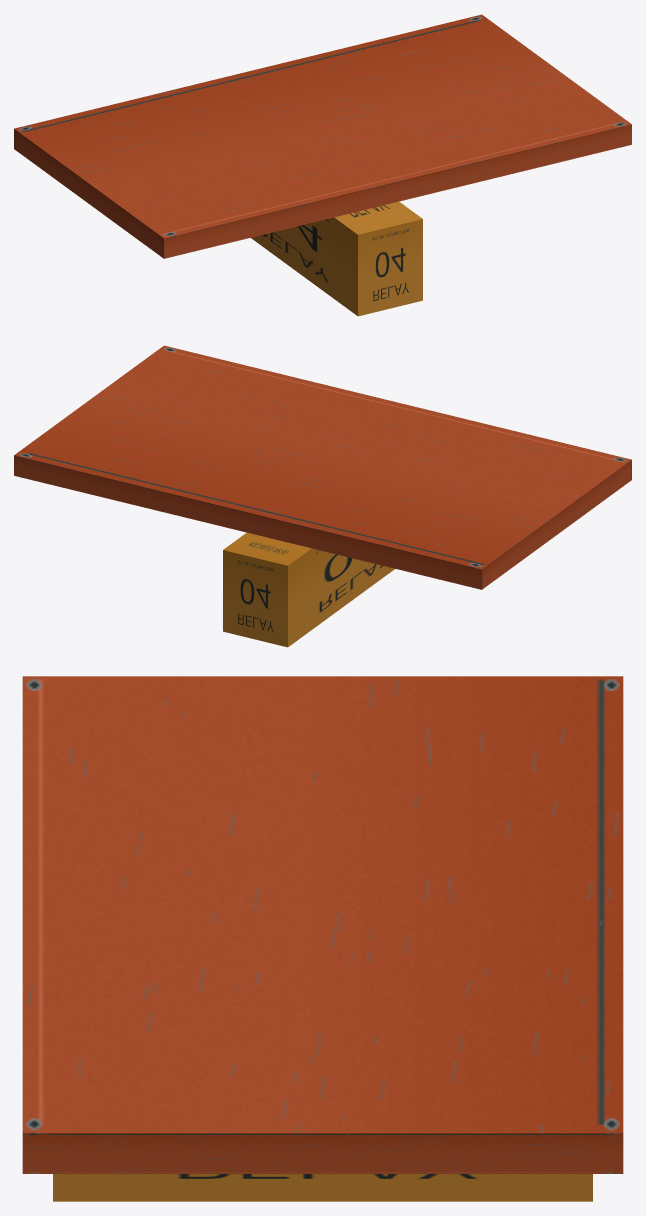
Rendered from solar_array_LOD2.obj.
3 views of the same model, one above another, from view 1: azimuth 30°, elevation 25°; view 2: azimuth 150°, elevation 25°; view 3: azimuth 270°, elevation 25° (orthographic). The views are drawn at different scales.
Parts seen in each view (by area): view 1: L02_solar_array_LOD2; view 2: L02_solar_array_LOD2; view 3: L02_solar_array_LOD2.
Boxes of the visible parts, x1,y1,x2,y2 form: L02_solar_array_LOD2: [14, 14, 631, 316]; L02_solar_array_LOD2: [14, 345, 631, 647]; L02_solar_array_LOD2: [22, 676, 623, 1201].
Bounding box in the file's own units: 3.6 × 0.975 × 2.
1 material, 1 textured.
